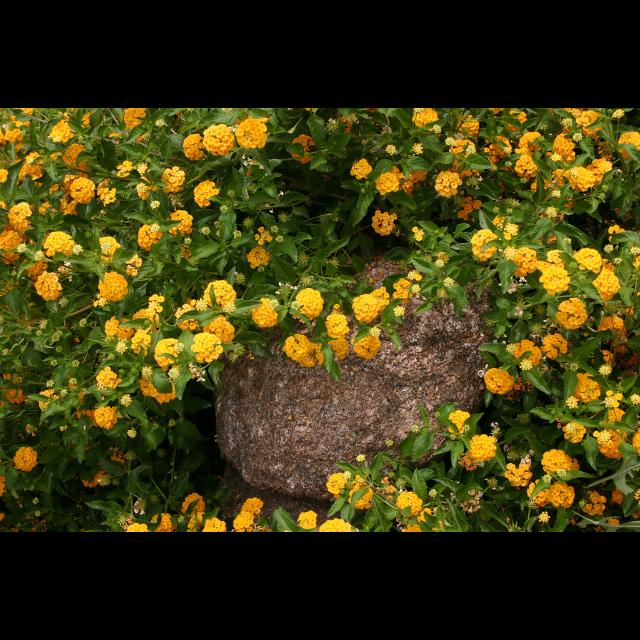Flower: (1, 109, 640, 532), (180, 318, 232, 364)
